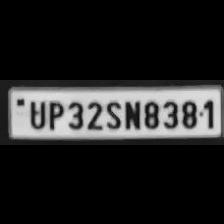1: (200, 96, 218, 128)
2: (85, 98, 103, 130)
3: (64, 97, 84, 128), (160, 96, 178, 128)
8: (140, 97, 160, 129), (178, 96, 198, 128)
N: (122, 96, 142, 130)
P: (44, 98, 64, 130)
S: (102, 98, 122, 130)
U: (24, 97, 46, 129)
